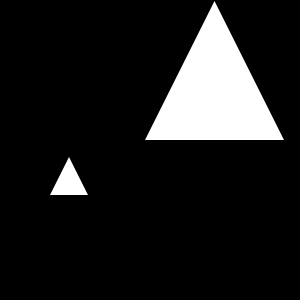triangle: (145, 1, 284, 140), (50, 157, 88, 195)
